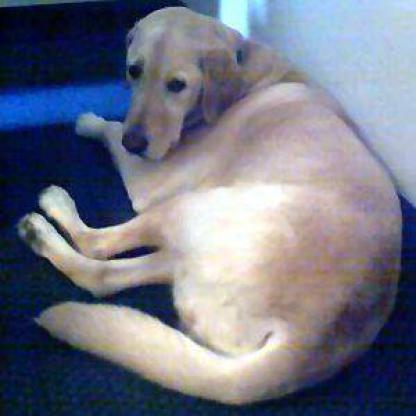dog: (83, 18, 415, 409)
